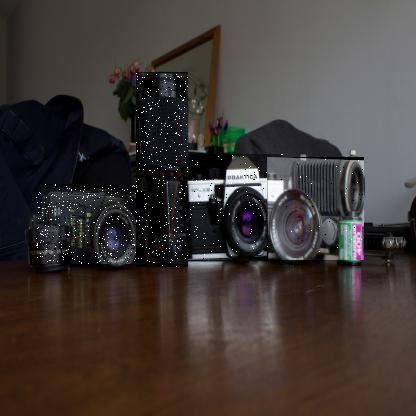Camera: (137, 73, 190, 269), (188, 155, 286, 261), (268, 158, 366, 262), (38, 185, 142, 266)
